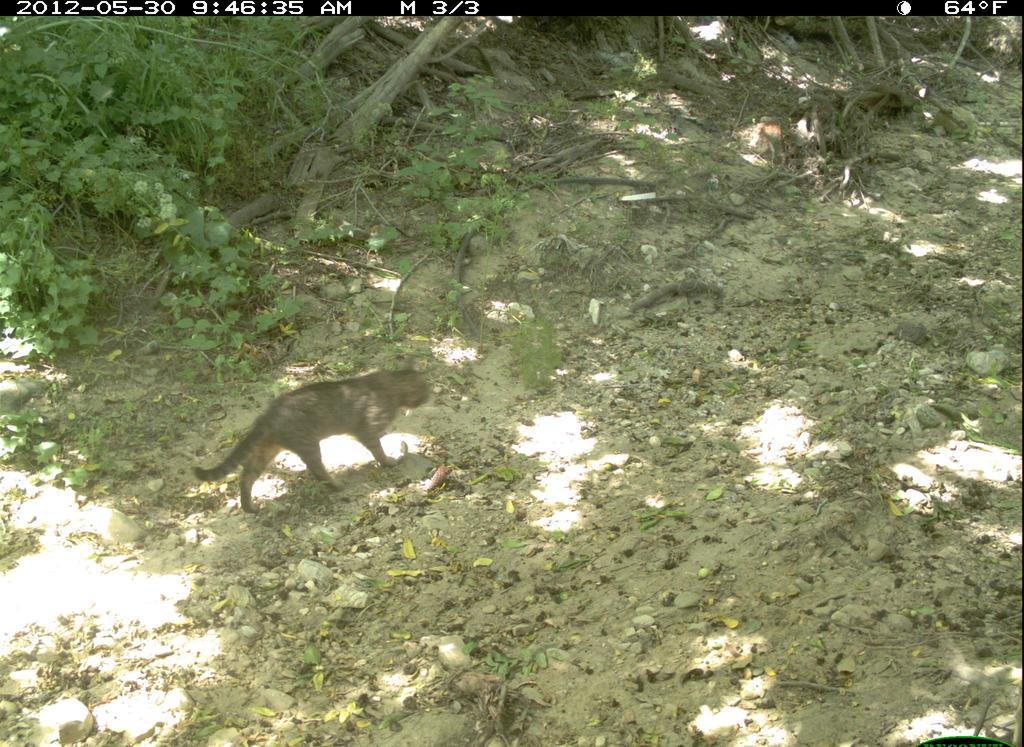cat: (189, 353, 440, 519)
